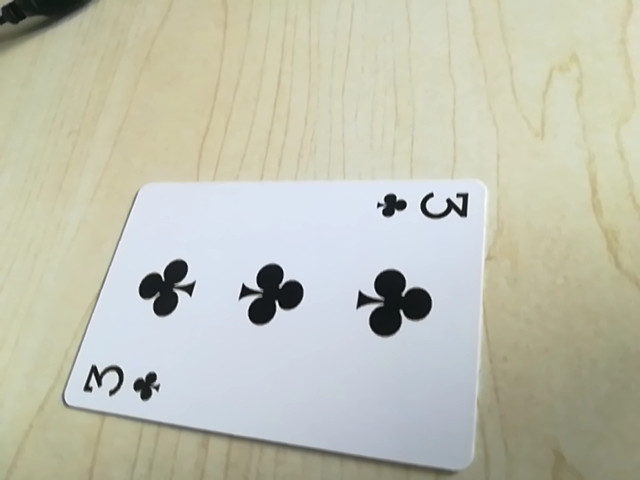mh 3: (76, 355, 169, 406), (373, 186, 474, 226)
